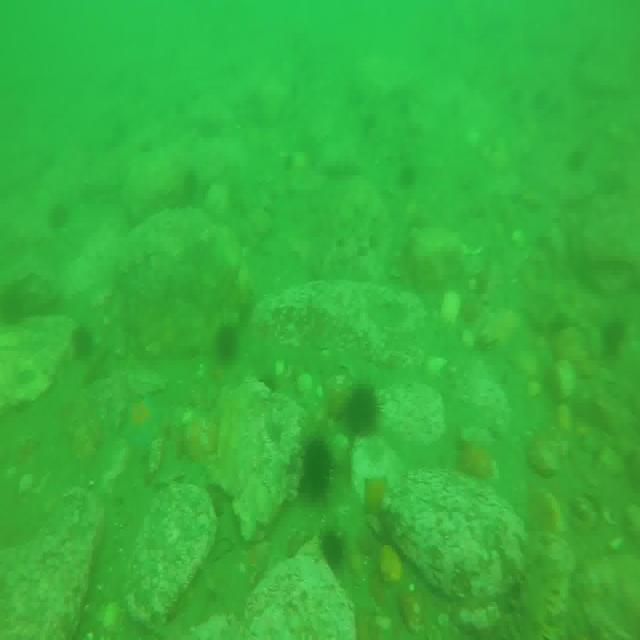echinus: (298, 437, 334, 496), (347, 383, 379, 442), (317, 526, 348, 577), (213, 317, 234, 372), (71, 324, 96, 363)
starfish: (122, 398, 160, 441), (363, 472, 394, 517)
